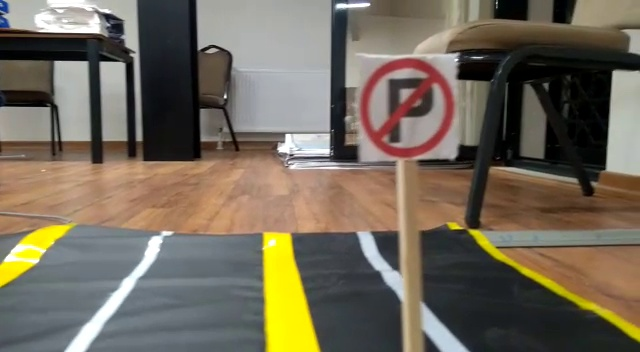park_yapilmaz: (355, 53, 457, 160)
